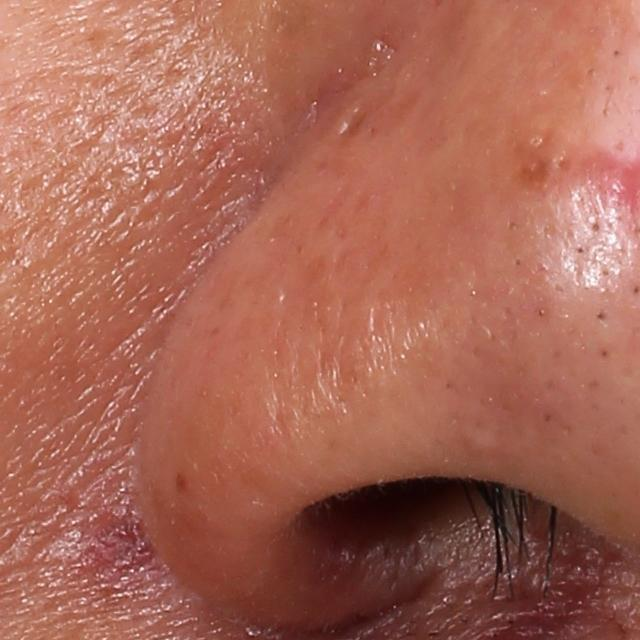atrophic_scar: (337, 105, 371, 138)
